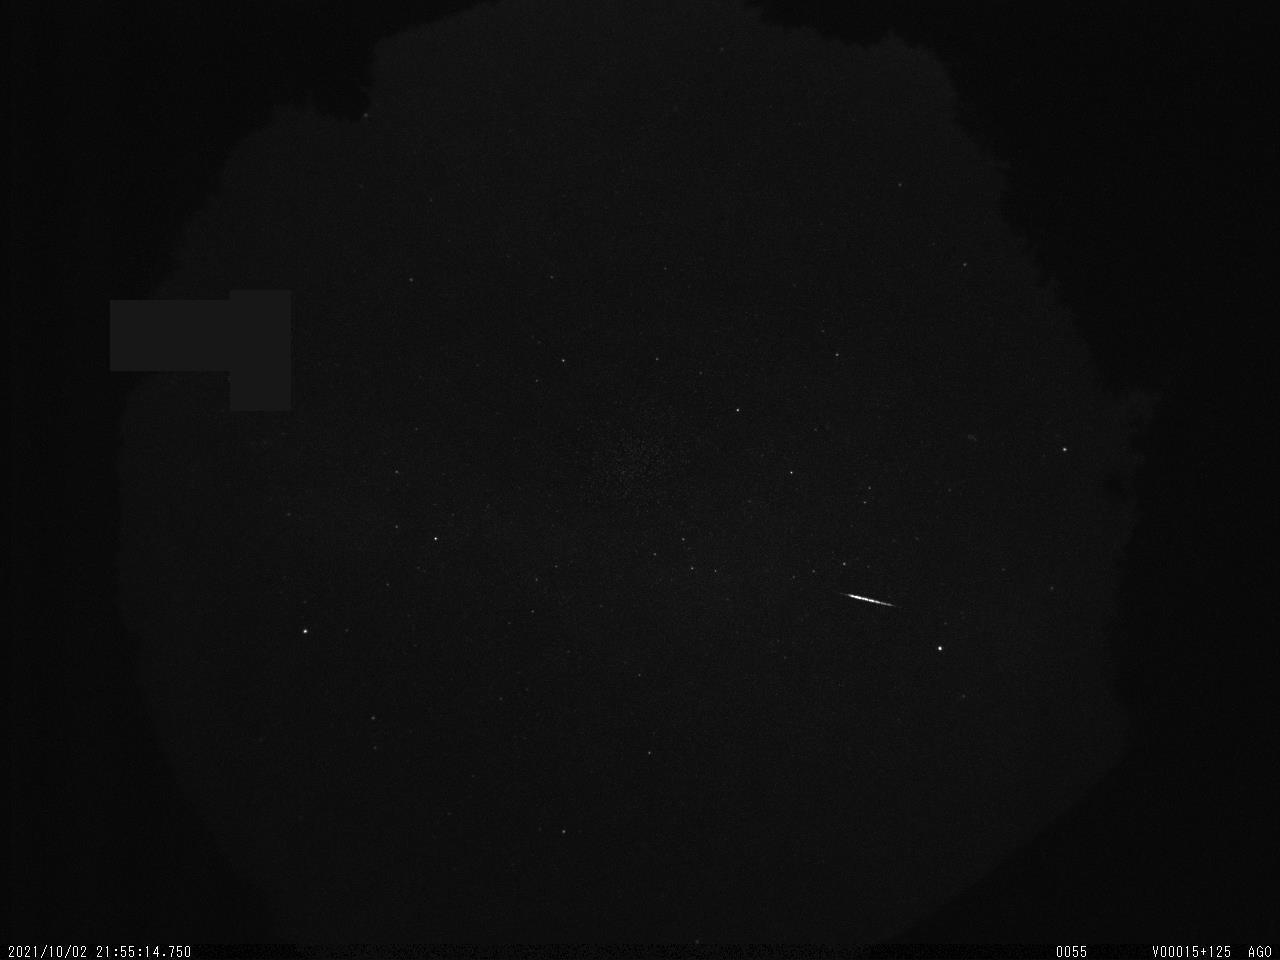Meteor: (841, 591, 898, 606)
